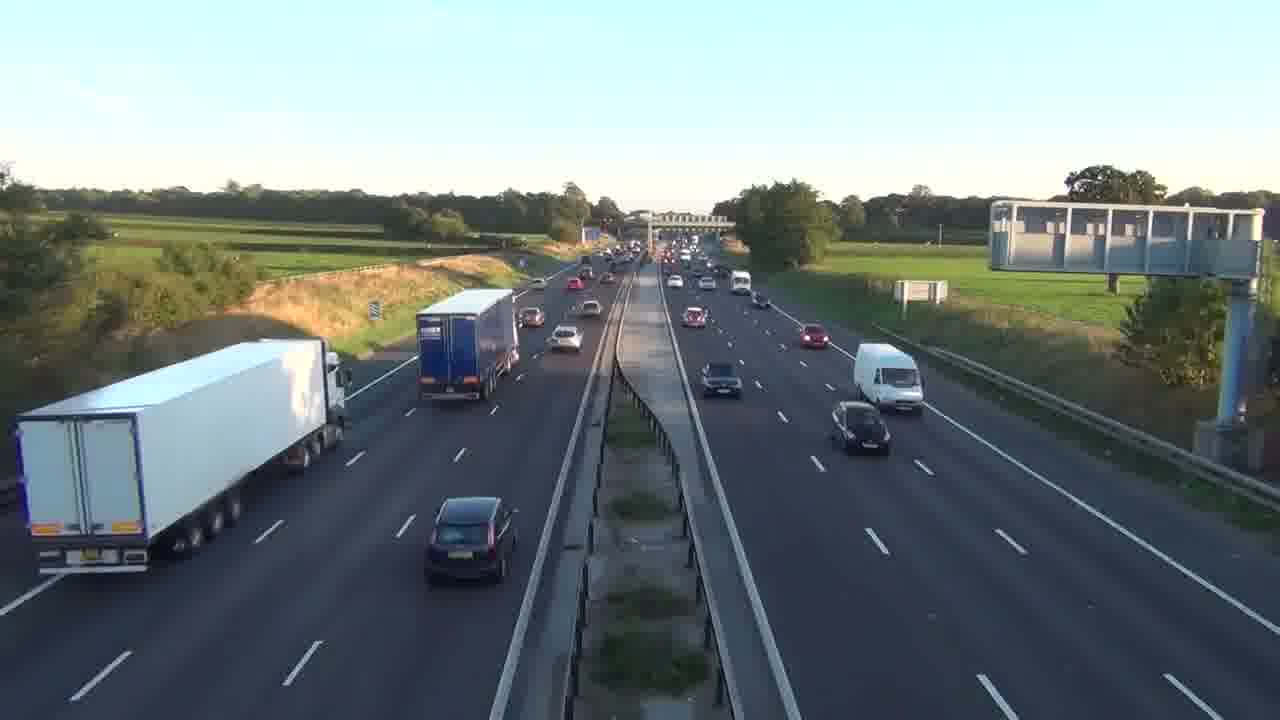car: (423, 495, 519, 584), (829, 400, 894, 455), (700, 360, 743, 399), (551, 324, 583, 353), (799, 322, 830, 350)
truck: (12, 336, 347, 578), (416, 286, 516, 405), (853, 341, 925, 413)
